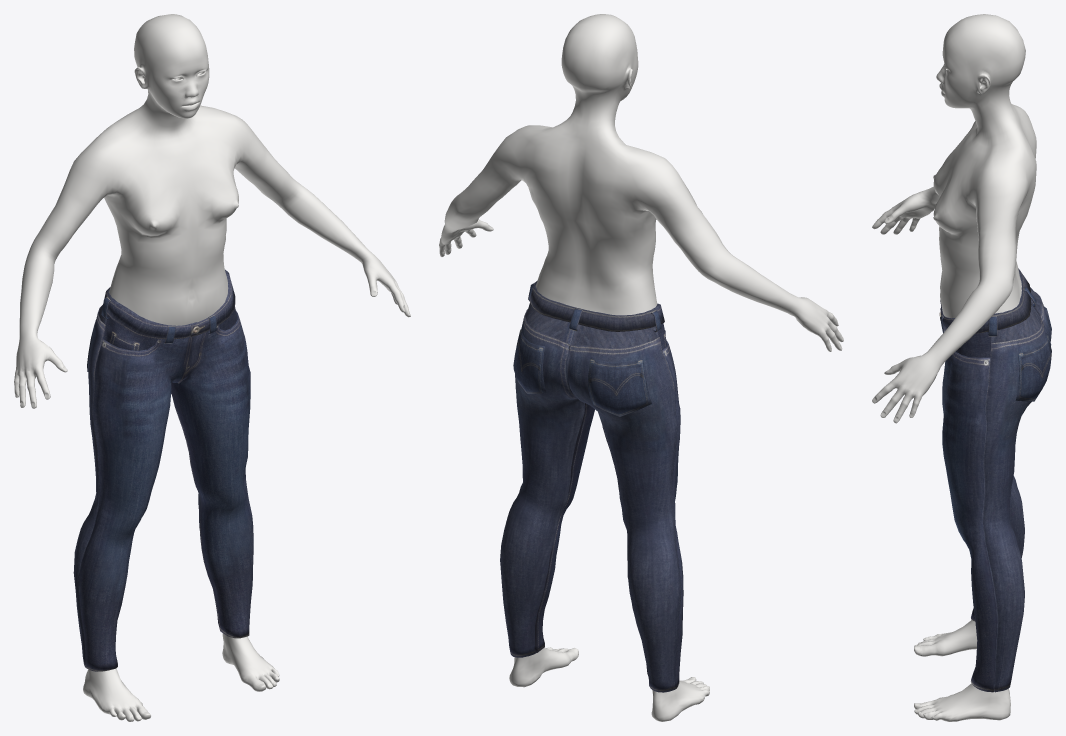
File: mh_female.glb
3 views of the same model, side by side, from view 1: azimuth 30°, elevation 25°; view 2: azimuth 150°, elevation 25°; view 3: azimuth 270°, elevation 25° (orthographic). The views are drawn at different scales.
Visible parts, largest first — view 1: Human, Pants; view 2: Pants, Human; view 3: Human, Pants.
Part boxes in pixels (x1=…): Human: x1=14, y1=14, x2=410, y2=721; Pants: x1=73, y1=269, x2=253, y2=671; Pants: x1=500, y1=280, x2=683, y2=692; Human: x1=439, y1=14, x2=843, y2=721; Human: x1=872, y1=14, x2=1036, y2=721; Pants: x1=939, y1=268, x2=1051, y2=692.
Bounding box in the file's own units: 0.9141 × 1.5 × 0.3661.
2 materials, 1 textured.
